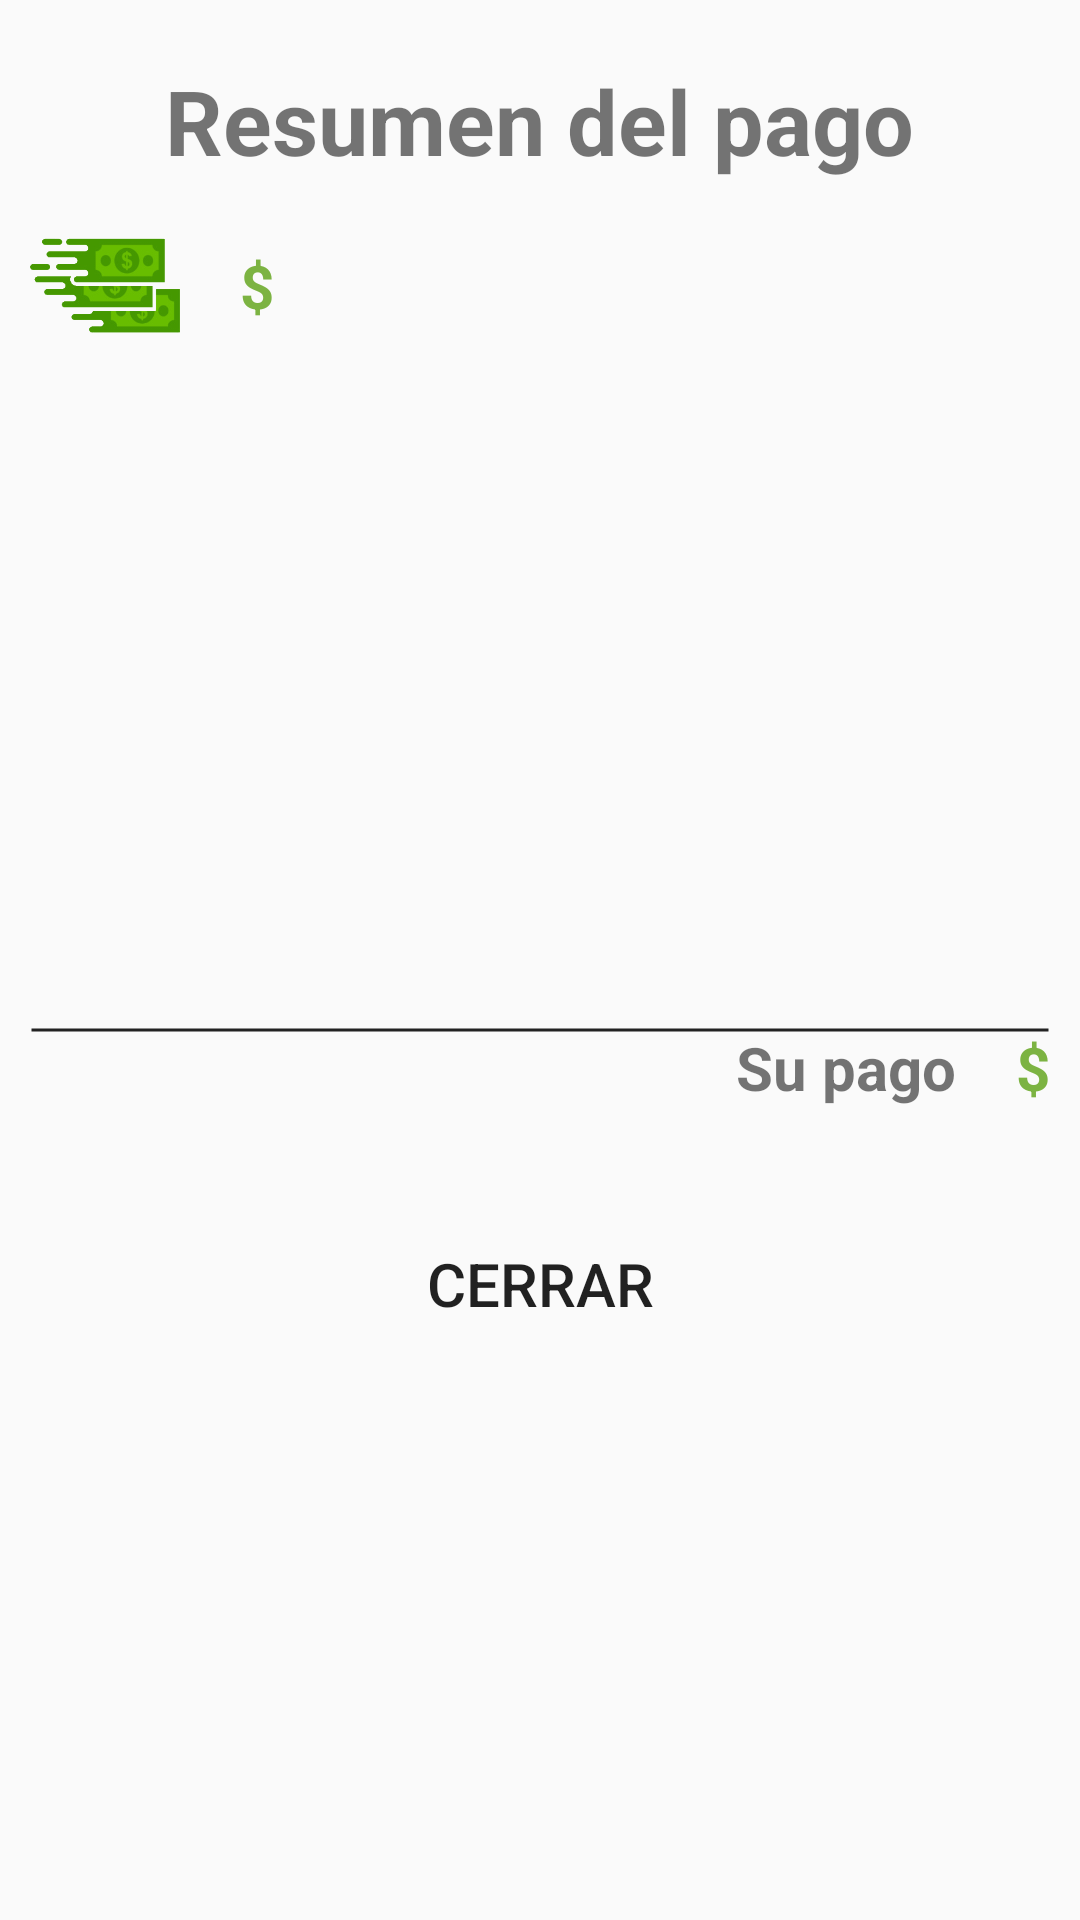

Icon click points for this 1080x1920 phone screenshot, format point (x, y):
money: point (105, 285)
